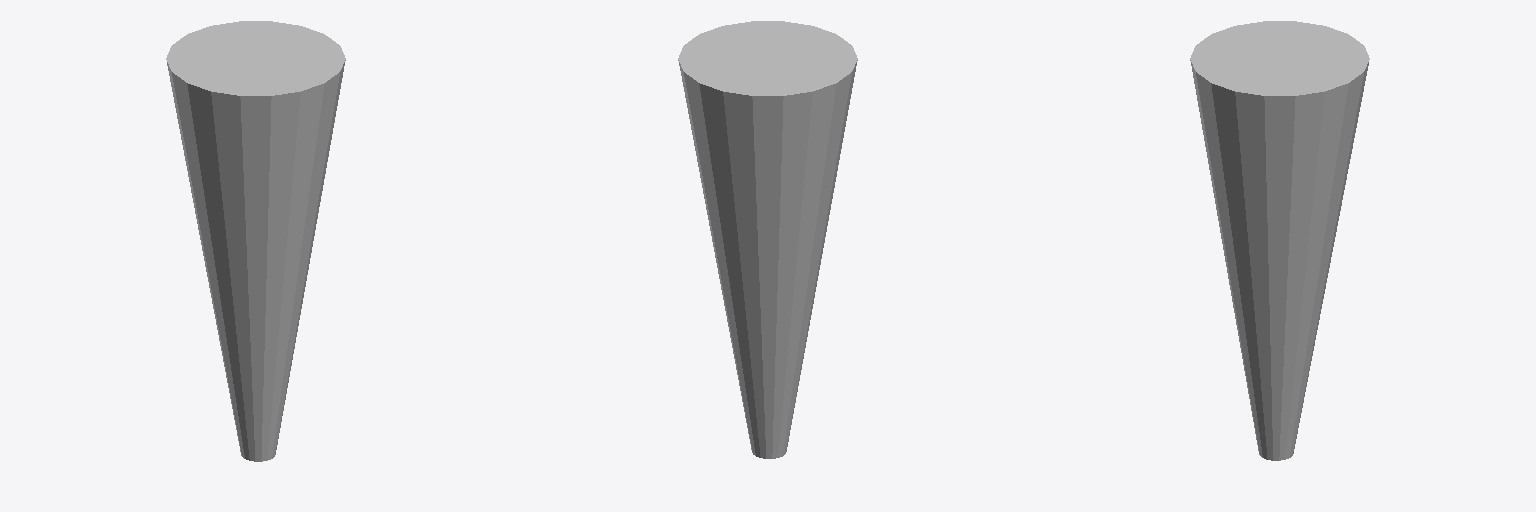
The model's file is VacuumRange.obj.
3 renders of one model, left to right at view 1: azimuth 30°, elevation 25°; view 2: azimuth 150°, elevation 25°; view 3: azimuth 270°, elevation 25°, orthographic.
Visible parts, largest first — view 1: VacuumRange; view 2: VacuumRange; view 3: VacuumRange.
Boxes of the visible parts, box(x1,y1,x2,y2) form: VacuumRange: box(166, 21, 345, 461); VacuumRange: box(678, 21, 857, 458); VacuumRange: box(1190, 21, 1369, 460).
Size of the model in its own units: 0.6607 by 1.63 by 0.6709.